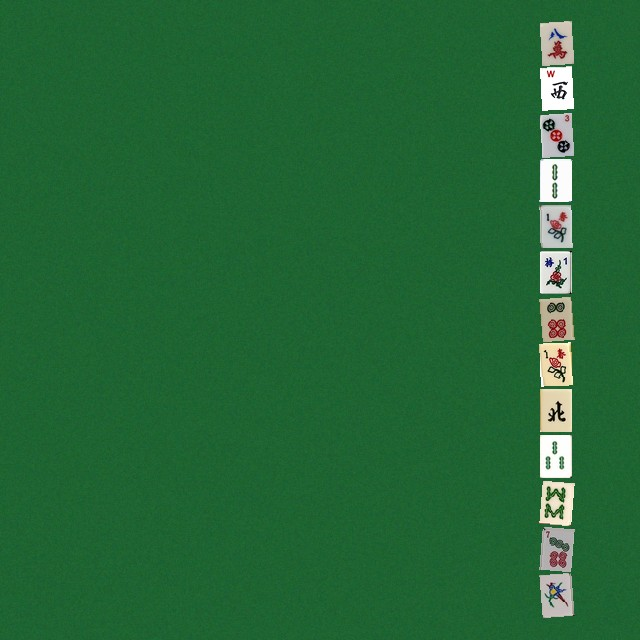tile: (539, 20, 571, 63), (539, 66, 571, 109), (539, 112, 571, 155), (539, 158, 571, 201), (539, 204, 571, 247), (539, 250, 571, 293), (539, 296, 571, 339), (539, 342, 571, 385), (539, 388, 571, 431), (539, 434, 571, 477), (539, 480, 571, 523), (539, 526, 571, 569), (539, 572, 571, 615)
